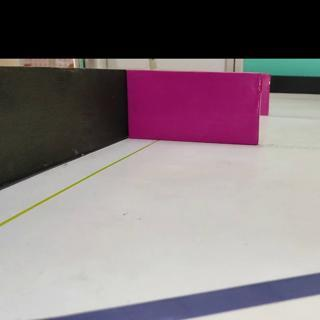xparking: (132, 73, 260, 142)
